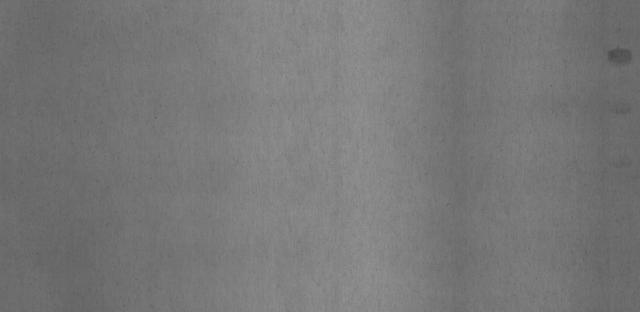oil_spot: (604, 44, 637, 66)
